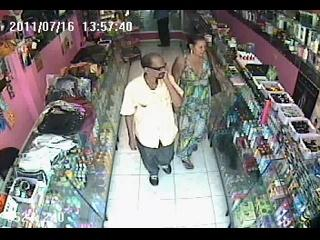Normal: (120, 52, 184, 186), (171, 35, 220, 170), (153, 10, 171, 48)
